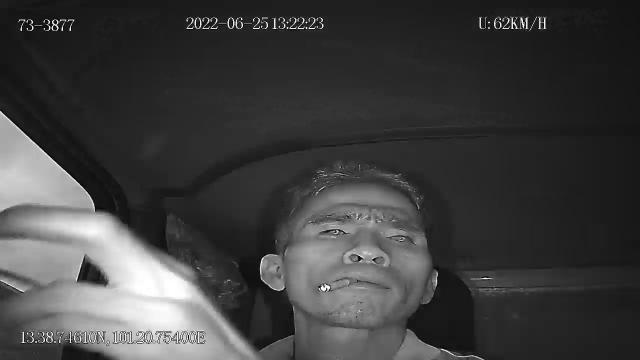SafeDriving: (311, 220, 355, 242), (378, 226, 419, 248)
Smoking: (317, 279, 357, 293)
